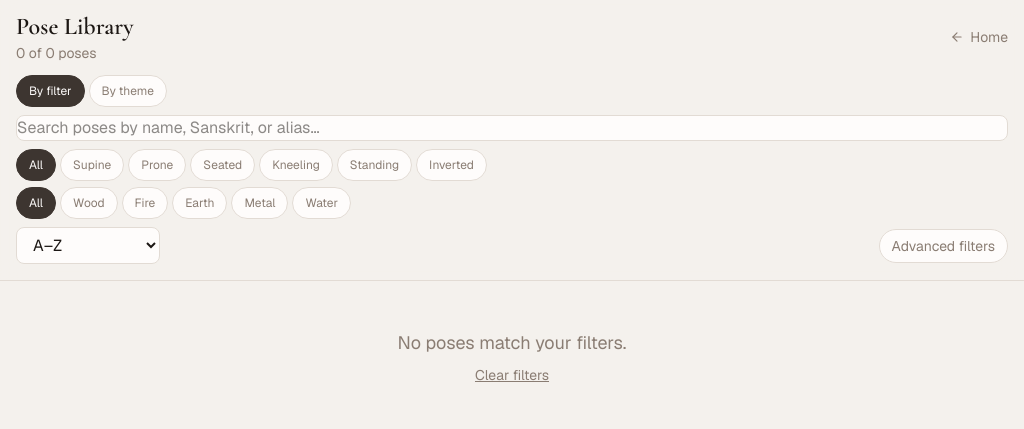
Test: zero-result explanation (FR-024) › names the constraints that produced an empty result
Type "zzzz-no-such-pose" into the search field with test id "poses-search-input".
click(512, 128); type("zzzz-no-such-pose")  # box [16, 115, 1008, 141]
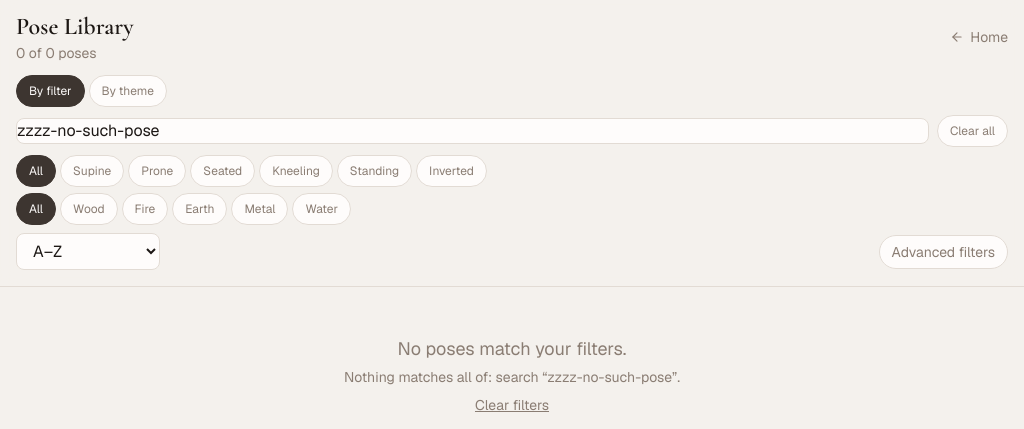
Expected: the text with test id "poses-zero-result-constraints" shows "zzzz-no-such-pose", [496, 368, 677, 386]
